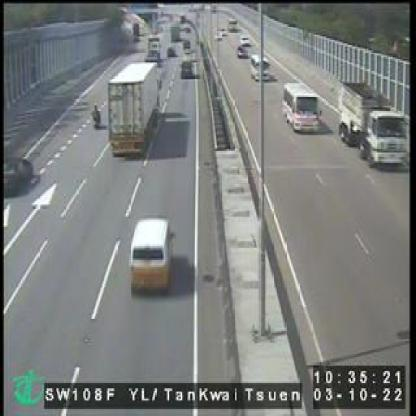Bus: (283, 80, 320, 132)
Car: (130, 213, 172, 290), (3, 158, 31, 196), (248, 52, 268, 78), (181, 56, 191, 76), (235, 47, 246, 57), (166, 47, 173, 55)
Truck: (340, 80, 404, 166), (109, 61, 160, 154)
